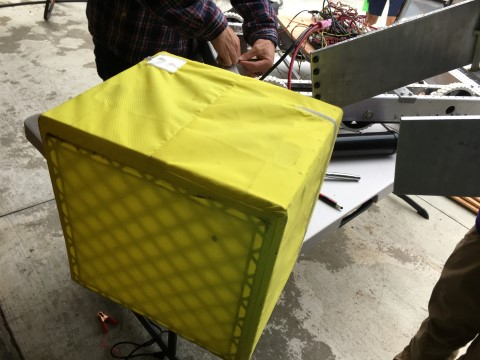cube: (38, 49, 344, 359)
